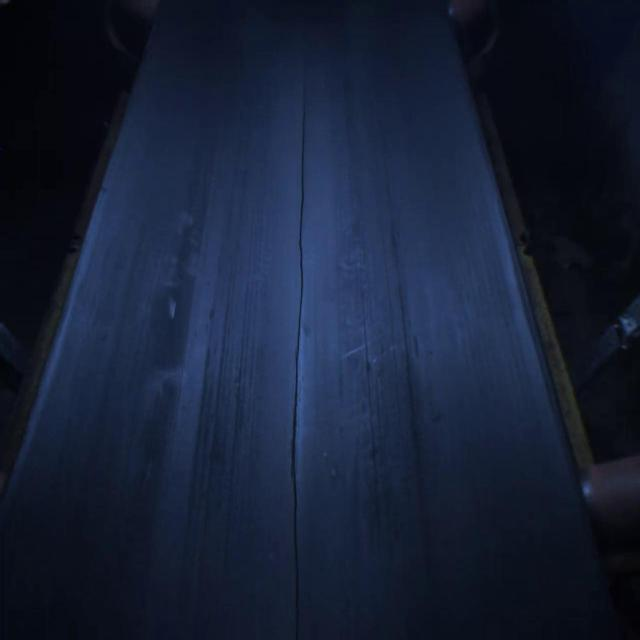Tear: (281, 58, 319, 640)
